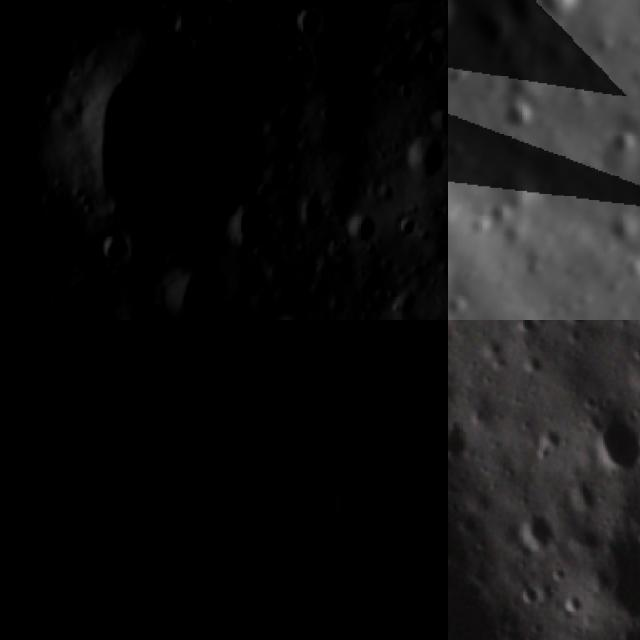crater: (61, 35, 294, 266), (448, 382, 517, 640), (1, 162, 61, 306), (345, 558, 448, 640), (0, 550, 83, 636), (75, 475, 152, 552), (233, 382, 307, 455), (179, 320, 265, 382), (127, 372, 196, 443), (582, 405, 640, 486), (417, 119, 448, 259), (157, 265, 234, 320), (486, 78, 551, 142), (225, 197, 289, 261), (264, 333, 325, 395), (330, 523, 390, 585), (354, 366, 412, 424), (457, 0, 517, 56), (558, 468, 612, 524), (507, 501, 555, 557), (515, 0, 589, 31), (342, 200, 386, 251), (598, 114, 640, 165), (90, 233, 136, 278), (398, 137, 440, 181), (216, 617, 292, 640), (474, 328, 512, 369), (294, 193, 331, 235), (527, 420, 566, 458), (164, 12, 207, 46), (337, 320, 400, 343), (507, 575, 543, 614), (448, 417, 471, 466), (617, 354, 640, 402), (562, 589, 594, 622), (511, 320, 549, 342), (572, 628, 640, 640), (215, 0, 264, 16), (275, 308, 318, 320), (556, 320, 595, 332)
